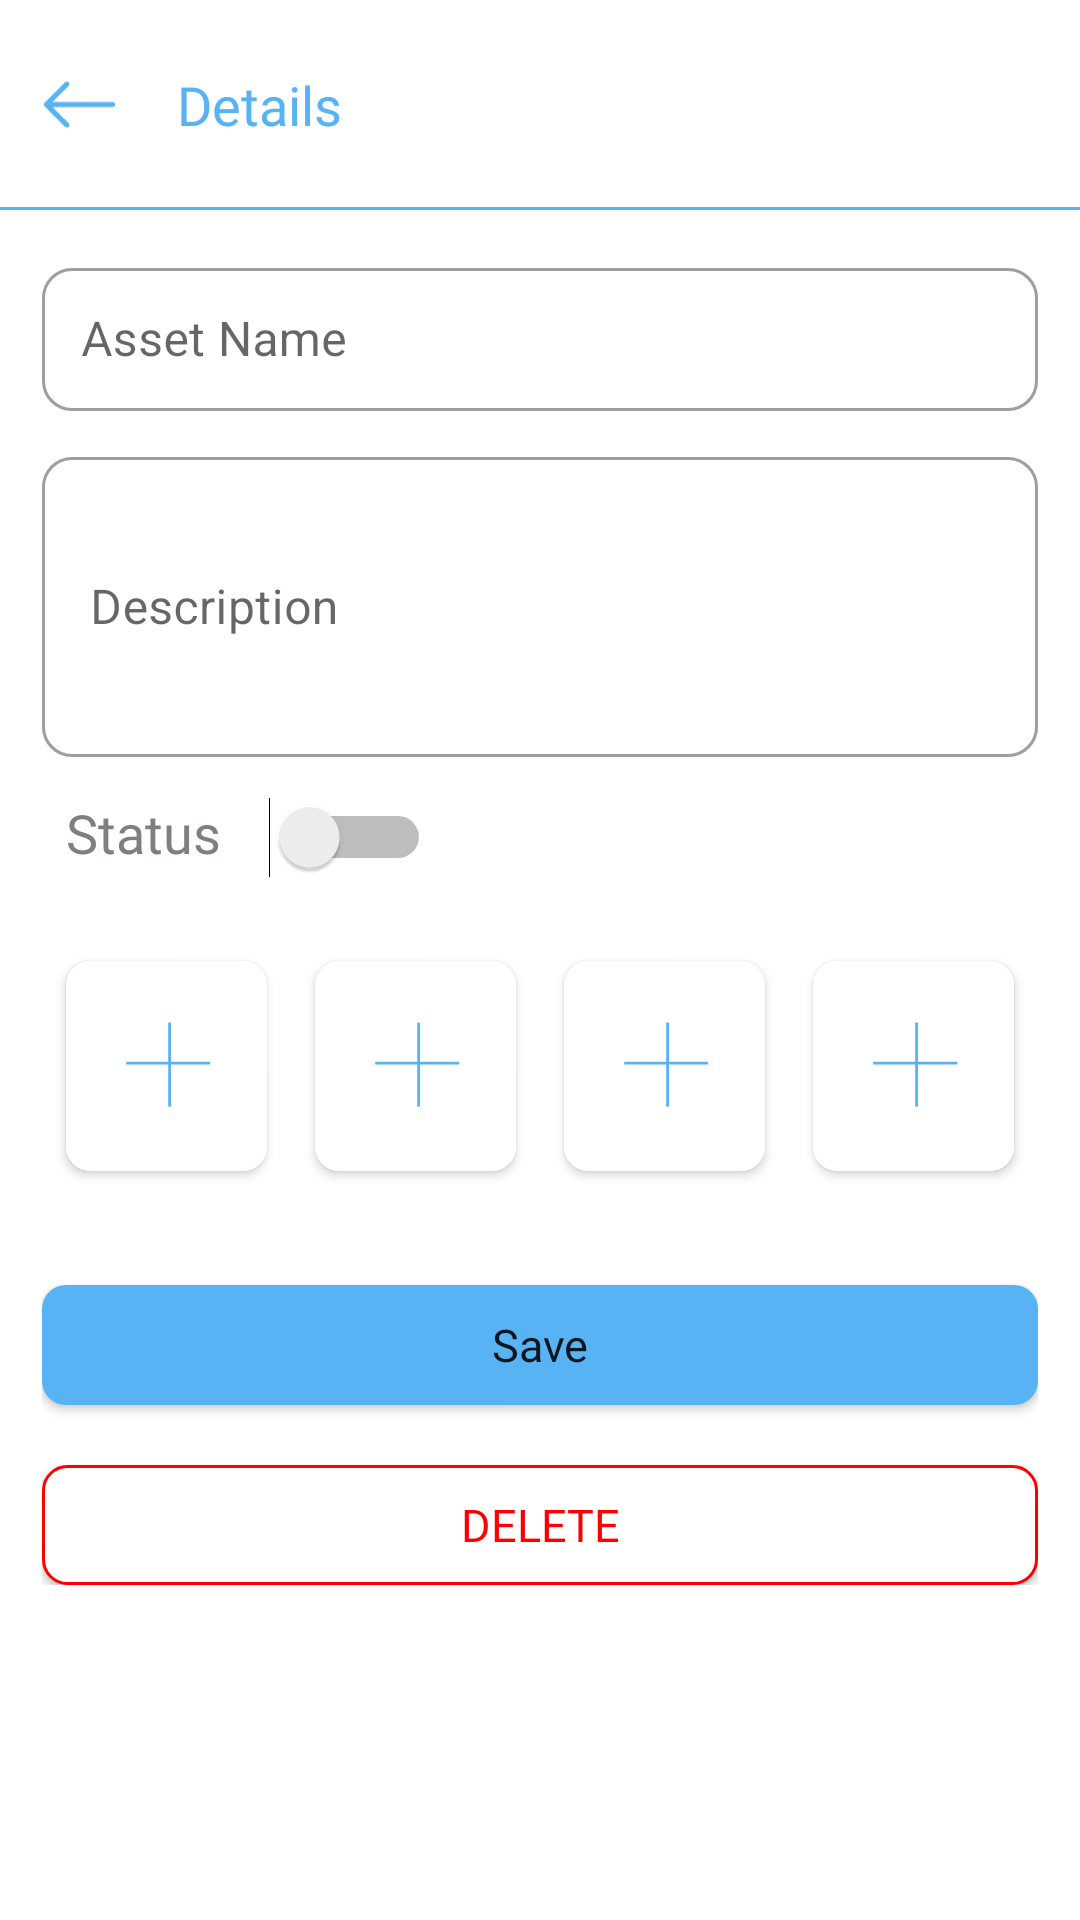

Where icons sit on this 1080px x 1920px app screen, as bbox(x1, y1, x2, y2):
arrow: bbox(44, 81, 115, 128)
